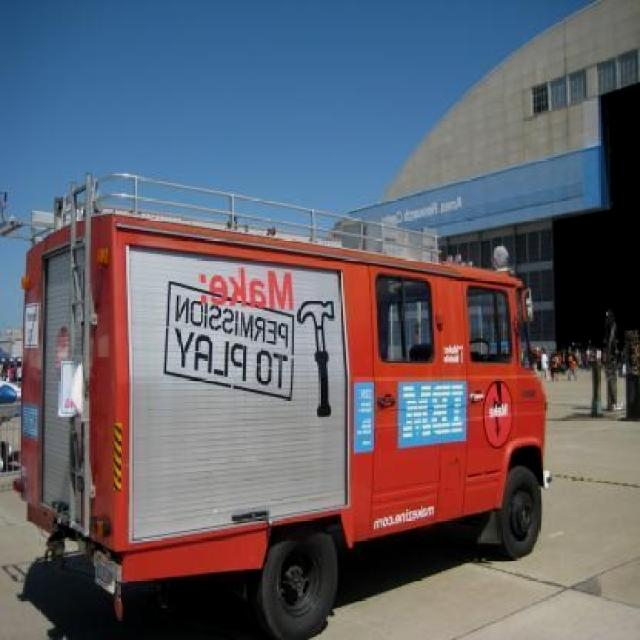Truck: (16, 172, 544, 636)
